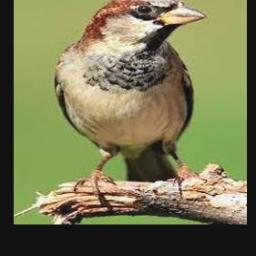Sparrow: (55, 0, 207, 200)
